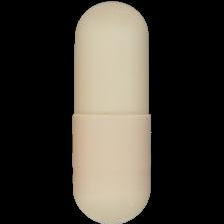66116-821: (0, 0, 224, 224)
